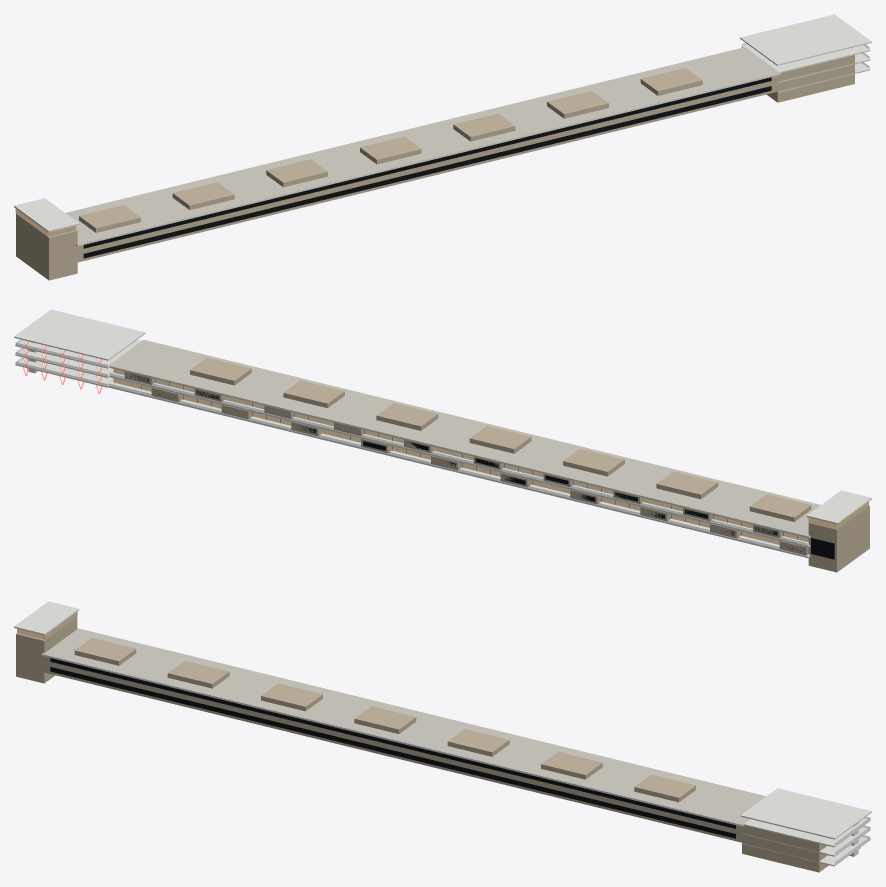
File: lus_pit_upper.glb
3 renders of one model, top to bottom at view 1: azimuth 30°, elevation 25°; view 2: azimuth 150°, elevation 25°; view 3: azimuth 330°, elevation 25°, orthographic.
Parts seen in each view (by area): view 1: lusail-pit-building; view 2: lusail-pit-building; view 3: lusail-pit-building.
Boxes of the visible parts, x1,y1,x2,y2 form: lusail-pit-building: (14, 14, 871, 280); lusail-pit-building: (14, 309, 871, 572); lusail-pit-building: (14, 601, 871, 872).
Size of the model in its own units: 405 by 23.7 by 32.4.
